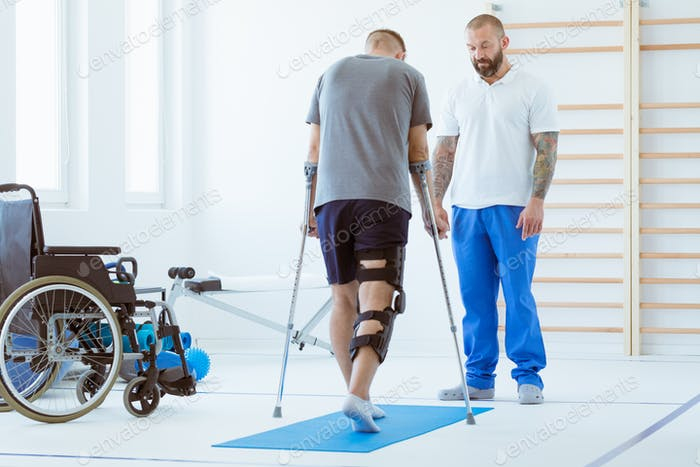crutches: (272, 27, 476, 434)
